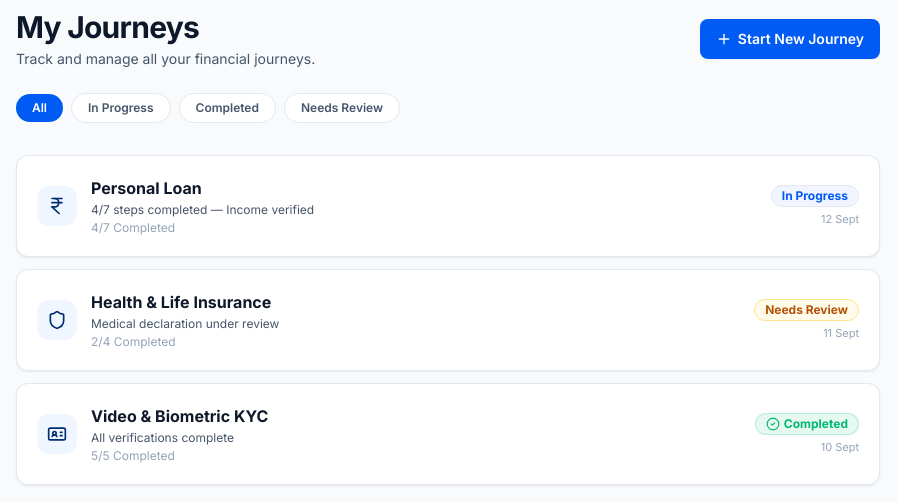
Screen10MyJourneys (F24) › filters journeys when switching tabs
Expected: the button with test id "journey-row-11111111-1111-1111-1111-111111111111" is shown, [16,155,880,257]
// Switch to Completed tab
Click the tab "Completed" at (227, 108), box [178,93,276,123]
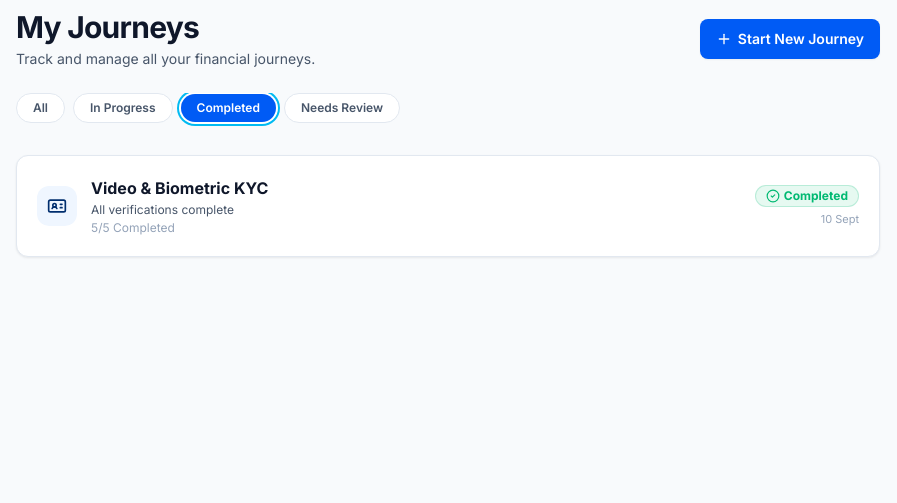
Expected: the button with test id "journey-row-33333333-3333-3333-3333-333333333333" is shown, [16,155,880,257]
Expected: the button with test id "journey-row-11111111-1111-1111-1111-111111111111" is gone
Expected: the button with test id "journey-row-22222222-2222-2222-2222-222222222222" is gone
